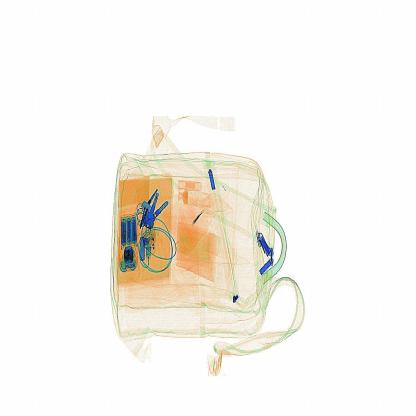wrench: (187, 200, 207, 229)
